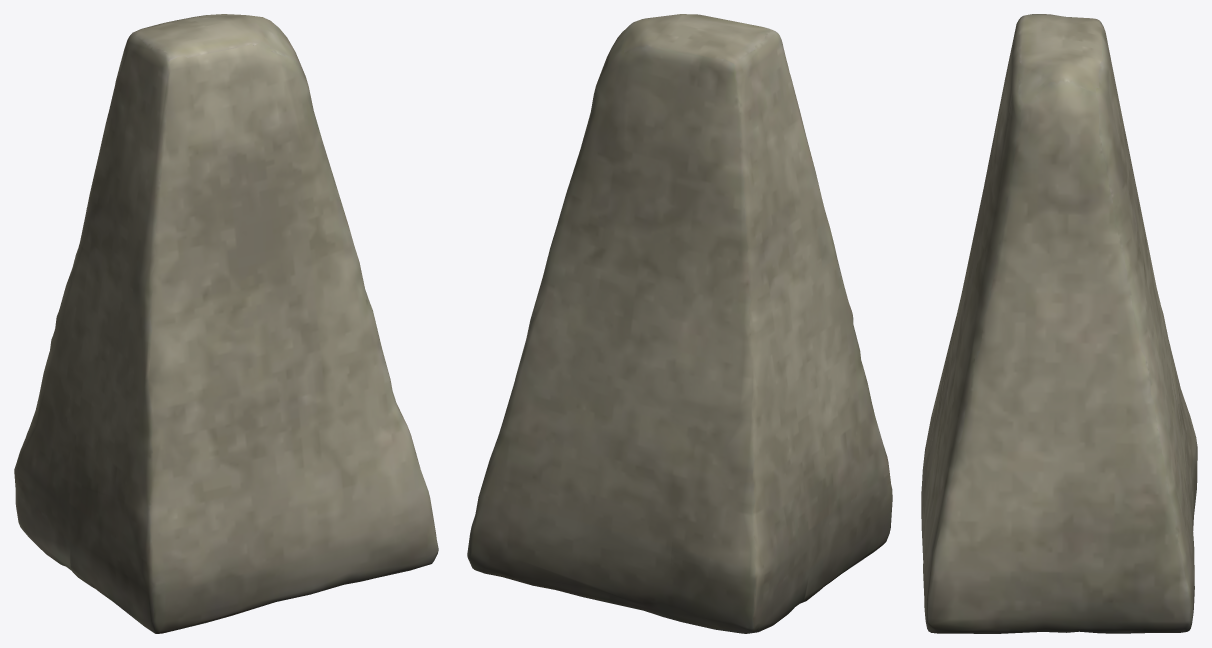
The model's file is ornate-limestone-milestone-v001.glb.
3 renders of one model, left to right at view 1: azimuth 30°, elevation 25°; view 2: azimuth 150°, elevation 25°; view 3: azimuth 270°, elevation 25°, orthographic. The views are drawn at different scales.
Parts seen in each view (by area): view 1: ornate-limestone-milestone; view 2: ornate-limestone-milestone; view 3: ornate-limestone-milestone.
Boxes of the visible parts, x1,y1,x2,y2 form: ornate-limestone-milestone: (14,14,438,633); ornate-limestone-milestone: (467,14,892,633); ornate-limestone-milestone: (921,14,1197,633).
Size of the model in its own units: 0.4538 by 0.7897 by 0.3786.
1 material, 1 textured.
